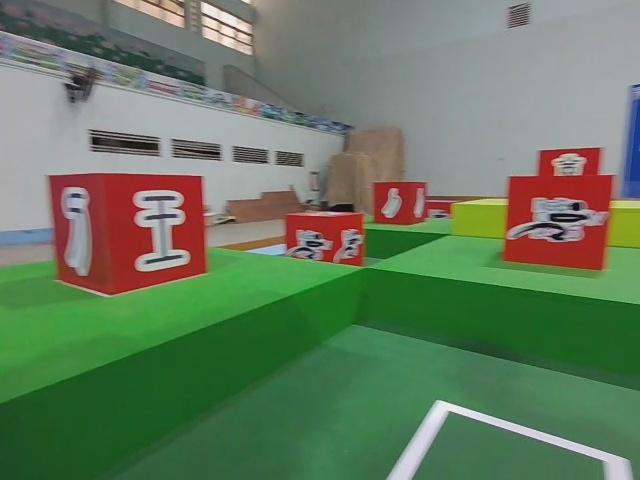R1: (497, 169, 617, 278), (283, 207, 364, 277)
R2 Fake: (48, 169, 208, 296)
R2 Real: (370, 177, 430, 228)
